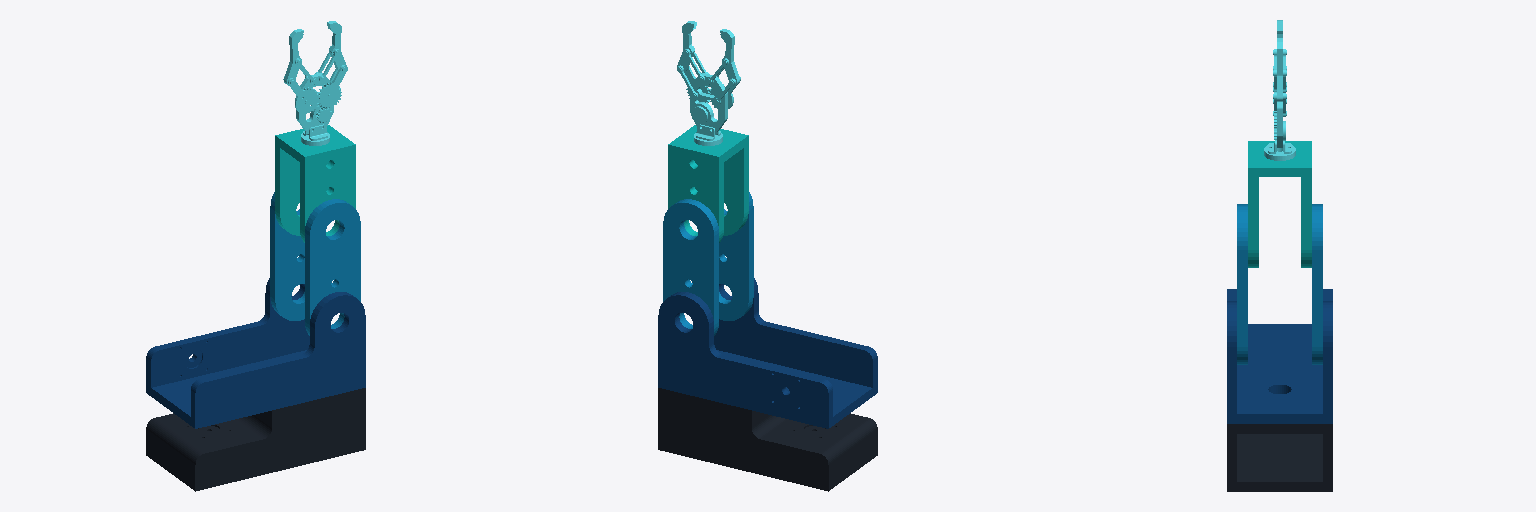
URDF robot description (rrrr):
<?xml version="1.0"?>
<robot name="rrrr">

    <link name="world"/>
    
    <link name="base_link">
        <inertial>
            <origin xyz="0.01601016 -0.01294874 1.02923951" rpy="0.0 0.0 0.0"/>
            <mass value="0.58108498"/>
            <inertia ixx="0.00221093" ixy="0.0" ixz="0.0" iyy="0.00095158" iyz="-0.00020330" izz="0.00256205"/>
        </inertial>
        <visual>
            <origin xyz="0 0 0" rpy="0 0 0"/>
            <geometry>
                <mesh filename="package://rrrr/meshes/base_link.STL" scale="1 1 1"/>
            </geometry>
            <material name="Gris">
                <color rgba="0.15 0.18 0.22 1.0"/>
            </material>
        </visual>
        <collision>
            <origin xyz="0 0 0" rpy="0 0 0"/>
            <geometry>
                <mesh filename="package://rrrr/meshes/base_link.STL" scale="1 1 1"/>
            </geometry>
        </collision>
    </link>       
    
    <joint name="world_to_base" type="fixed">
        <parent link="world"/>
        <child link="base_link"/>
        <origin xyz="0 0 0" rpy="0 0 0"/>
    </joint>

    <link name="link_1">
        <inertial>
            <origin xyz="0.00296154 0.00579816 1.02434988" rpy="0.0 0.0 0.0"/>
            <mass value="0.41520613"/>
            <inertia ixx="0.00172230" ixy="-0.00000380" ixz="0.00000042" iyy="0.00087982" iyz="0.00021009" izz="0.00205141"/>
        </inertial>
        <visual>
            <origin xyz="0.0 0.0 0.0" rpy="0.0 0.0 0.0"/>
            <geometry>
                <mesh filename="package://rrrr/meshes/link_1.STL" scale="1 1 1"/>
            </geometry>
            <material name="Azul">
                <color rgba="0.10 0.30 0.50 1.0"/>
            </material>
        </visual>
        <collision>
            <origin xyz="0.0 0.0 0.0" rpy="0.0 0.0 0.0"/>
            <geometry>
                <mesh filename="package://rrrr/meshes/link_1.STL" scale="1 1 1"/>
            </geometry>
        </collision>
    </link>
    
    <joint name="j1" type="revolute">
        <origin xyz="0.0 0.0 0.07" rpy="0 0 0"/>
        <parent link="base_link"/>
        <child link="link_1"/>
        <axis xyz="0.0 0.0 1"/>
        <limit lower="-3.14159265" upper="3.14159265" effort="10.0" velocity="1.0"/>
    </joint>

    <link name="link_2">
        <inertial>
            <origin xyz="-0.04925232 -0.01857965 0.97000000" rpy="0.0 0.0 0.0"/>
            <mass value="0.16007101"/>
            <inertia ixx="0.00048491" ixy="0.0" ixz="0.0" iyy="0.00024568" iyz="0.0" izz="0.00033574"/>
        </inertial>
        <visual>
            <origin xyz="0.0 0.0 0.0" rpy="0.0 0.0 0.0"/>
            <geometry>
                <mesh filename="package://rrrr/meshes/link_2.STL" scale="1 1 1"/>
            </geometry>
            <material name="Cian">
                <color rgba="0.10 0.55 0.75 1.0"/>
            </material>
        </visual>
        <collision>
            <origin xyz="0.0 0.0 0.0" rpy="0.0 0.0 0.0"/>
            <geometry>
                <mesh filename="package://rrrr/meshes/link_2.STL" scale="1 1 1"/>
            </geometry>
        </collision>
    </link>
    
    <joint name="j2" type="revolute">
        <origin xyz="0.025 0.0 0.08" rpy="1.5708 0.0 0.0"/>
        <parent link="link_1"/>
        <child link="link_2"/>
        <axis xyz="0.0 0.0 1.0"/>
        <limit lower="-1.0379" upper="0.4714" effort="10.0" velocity="1.0"/>
    </joint>

    <link name="link_3">
        <inertial>
            <origin xyz="-0.04189326 -0.02459975 0.98000000" rpy="0.0 0.0 0.0"/>
            <mass value="0.13607101"/>
            <inertia ixx="0.00027338" ixy="0.0" ixz="0.0" iyy="0.00012724" iyz="0.0" izz="0.00022826"/>
        </inertial> 
        <visual>
            <origin xyz="0.0 0.0 0.0" rpy="0.0 0.0 0.0"/>
            <geometry>
                <mesh filename="package://rrrr/meshes/link_3.STL" scale="1 1 1"/>
            </geometry>
            <material name="Turquesa">
                <color rgba="0.10 0.75 0.75 1.0"/>
            </material>
        </visual>
        <collision>
            <origin xyz="0.0 0.0 0.0" rpy="0.0 0.0 0.0"/>
            <geometry>
                <mesh filename="package://rrrr/meshes/link_3.STL" scale="1 1 1"/>
            </geometry>
        </collision>
    </link>
    
    <joint name="j3" type="revolute">
        <origin xyz="0.0 0.1 0.0" rpy="0.0 0.0 0.0"/>
        <parent link="link_2"/>
        <child link="link_3"/>
        <axis xyz="0.0 0.0 1.0"/>
        <limit lower="-1.5708" upper="1.5708" effort="10.0" velocity="1.0"/>
    </joint>

    <link name="link_4">
        <inertial>
            <origin xyz="-0.00084870 -0.00100073 1.00483183" rpy="0.0 0.0 0.0"/>
            <mass value="0.10230176"/>
            <inertia ixx="0.00019657" ixy="0.0" ixz="0.00000012" iyy="0.00019510" iyz="-0.00000074" izz="0.00004901"/>
        </inertial>
        <visual>
            <origin xyz="0.0 0.0 0.0" rpy="0.0 0.0 0.0"/>
            <geometry>
                <mesh filename="package://rrrr/meshes/link_4.STL" scale="1 1 1"/>
            </geometry>
            <material name="Blanco">
                <color rgba="0.40 0.90 0.95 1.0"/>
            </material>
        </visual>
        <collision>
            <origin xyz="0.0 0.0 0.0" rpy="0.0 0.0 0.0"/>
            <geometry>
                <mesh filename="package://rrrr/meshes/link_4.STL" scale="1 1 1"/>
            </geometry>
        </collision>
    </link>
    
    <joint name="j4" type="revolute">
        <parent link="link_3"/>
        <child link="link_4"/>
        <origin xyz="0.0 0.085 0.0" rpy="-1.5708 1.5708 0.0"/>
        <axis xyz="0.0 0.0 1.0"/>
        <limit lower="-3.1416" upper="3.1416" effort="10.0" velocity="1.0"/>
    </joint>

    <link name="end_effector"/>
        <joint name="link_4_effector" type="fixed">
            <parent link="link_4"/>
            <child link="end_effector"/>
            <origin xyz="0.0 0.0 1.2266" rpy="0.0 0.0 0.0"/>
        </joint>

</robot>

--- Render facts (derived) ---
Views: 3 orthographic renders of the robot side by side, from view 1: azimuth 30°, elevation 25°; view 2: azimuth 150°, elevation 25°; view 3: azimuth 270°, elevation 25°.
Robot: rrrr — 7 links, 6 joints (4 revolute, 2 fixed); root link world; default pose: all joints at 0.
Links seen in each view (by area): view 1: link_1, base_link, link_2, link_3, link_4; view 2: link_1, base_link, link_2, link_3, link_4; view 3: link_1, base_link, link_3, link_2, link_4.
Boxes of the visible links, box(x1,y1,x2,y2) form: link_1: box(146, 278, 365, 428); base_link: box(146, 388, 365, 491); link_2: box(270, 192, 360, 335); link_3: box(275, 125, 355, 242); link_4: box(283, 21, 347, 145); link_1: box(658, 278, 877, 428); base_link: box(658, 388, 877, 491); link_2: box(663, 192, 753, 335); link_3: box(668, 125, 748, 242); link_4: box(677, 21, 740, 145); link_1: box(1227, 289, 1332, 423); base_link: box(1227, 424, 1332, 491); link_3: box(1248, 141, 1311, 267); link_2: box(1237, 204, 1322, 364); link_4: box(1264, 20, 1295, 160).
Bounding box of the posed robot: 0.2055 × 0.1 × 0.4628 m (x, y, z).
Meshes: 5 distinct files referenced, 5 mesh visuals loaded (5 binary STL).
